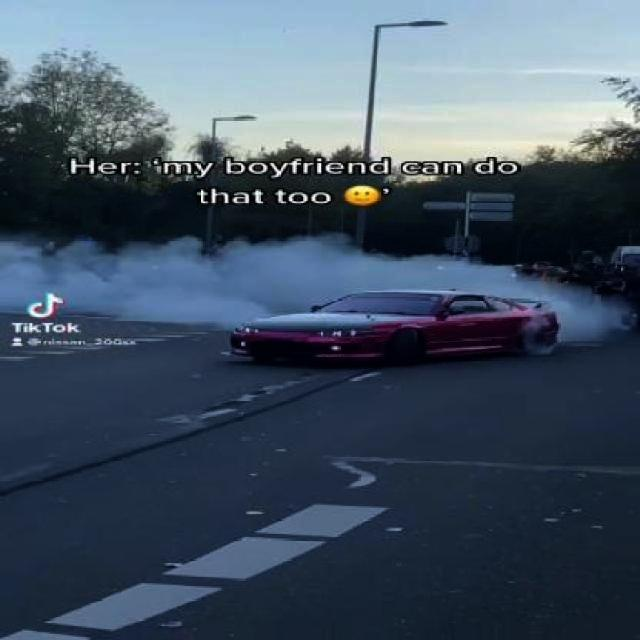car: (228, 287, 568, 366)
